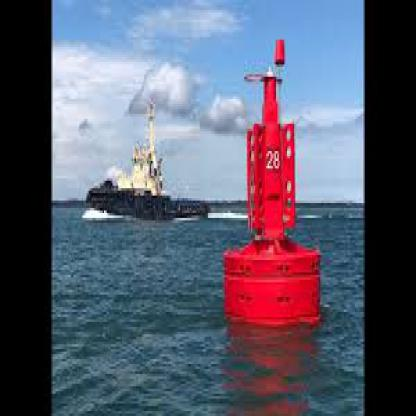buoy: (215, 35, 326, 327)
